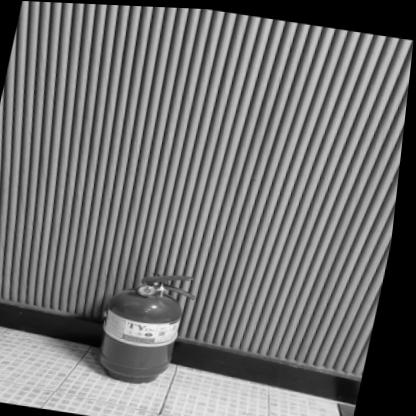FE: (99, 263, 204, 387)
